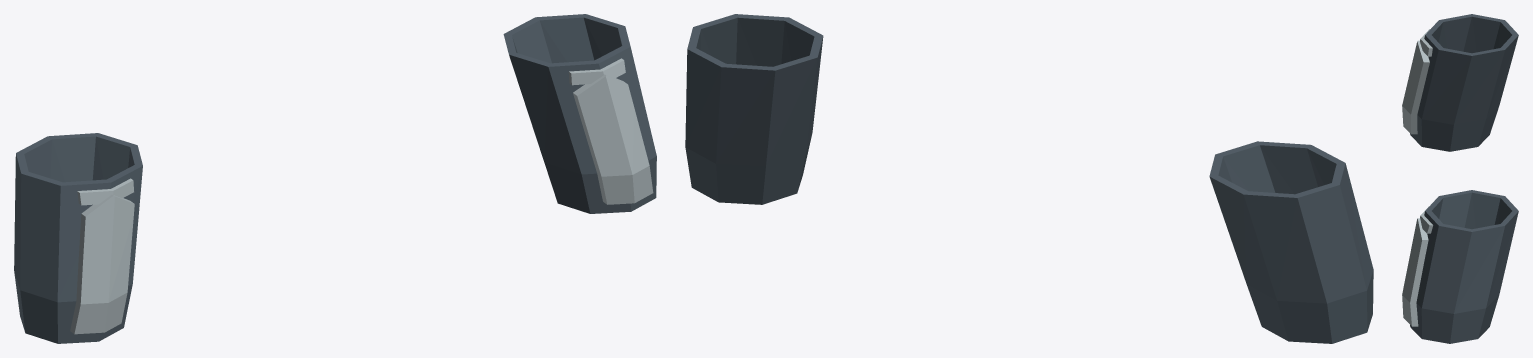
File: plate_wrists-male.glb
The picture shows the model from 3 angles, left to right: view 1: azimuth 30°, elevation 25°; view 2: azimuth 150°, elevation 25°; view 3: azimuth 270°, elevation 25°; orthographic projection. The views are drawn at different scales.
Visible parts, largest first — view 1: plate wrist guard -1, plate wrist guard 1, Vambrace dorsal plate -1, Vambrace dorsal plate 1, Bracer rolled upper lip 1, Bracer rolled upper lip -1; view 2: plate wrist guard -1, plate wrist guard 1; view 3: plate wrist guard 1, plate wrist guard -1, Vambrace dorsal plate 1, Vambrace dorsal plate -1, Bracer rolled upper lip -1, Bracer rolled upper lip 1.
Boxes of the visible parts, <box> form: plate wrist guard -1: <box>14,133,142,343</box>; plate wrist guard 1: <box>503,14,656,213</box>; Vambrace dorsal plate -1: <box>70,194,134,334</box>; Vambrace dorsal plate 1: <box>573,74,653,204</box>; Bracer rolled upper lip 1: <box>568,58,625,85</box>; Bracer rolled upper lip -1: <box>77,178,133,205</box>; plate wrist guard -1: <box>1209,141,1373,343</box>; plate wrist guard 1: <box>685,14,823,204</box>; plate wrist guard 1: <box>1410,190,1518,343</box>; plate wrist guard -1: <box>1410,14,1518,151</box>; Vambrace dorsal plate 1: <box>1402,218,1428,326</box>; Vambrace dorsal plate -1: <box>1402,40,1429,134</box>; Bracer rolled upper lip -1: <box>1420,29,1432,56</box>; Bracer rolled upper lip 1: <box>1420,206,1433,233</box>.
Size of the model in its own units: 3.79 by 0.84 by 0.822.
